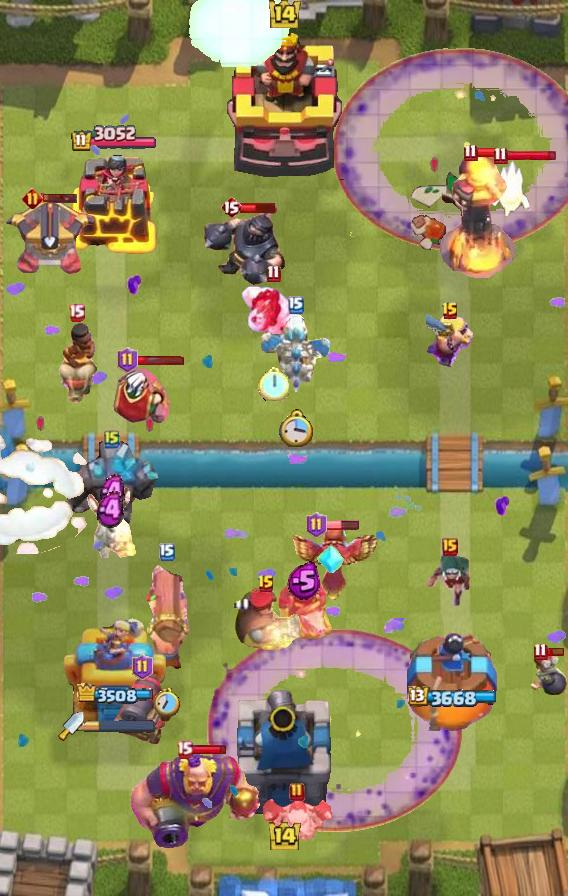arrows: (426, 314, 474, 368)
bar: (61, 615, 166, 731)
bat: (490, 160, 530, 218)
battle-healer: (143, 557, 191, 671)
cannoneer-tower: (63, 441, 161, 543)
electro-dragon: (438, 153, 518, 281)
electro-spirit: (287, 561, 321, 601), (97, 491, 123, 529), (99, 475, 124, 509)
elite-barbarian: (54, 323, 98, 405)
elixir: (279, 409, 314, 447), (258, 366, 289, 401), (154, 687, 180, 716)
emote: (507, 149, 558, 162), (135, 355, 185, 366), (239, 202, 276, 215), (42, 192, 79, 204), (324, 519, 360, 531), (191, 745, 228, 756), (475, 147, 509, 158), (545, 647, 565, 658)
freeze: (270, 575, 338, 647)
golden-knight: (287, 527, 379, 603)
ice-golem: (528, 647, 568, 695)
king-tower: (224, 29, 344, 181), (232, 686, 336, 826)
king-tower-bar: (84, 719, 156, 733)
lava-pup: (3, 194, 95, 276)
lightning: (127, 752, 265, 848)
mega-knight: (186, 0, 292, 72)
mini-pekka: (259, 315, 333, 399), (81, 486, 139, 558), (259, 795, 335, 845)
pad_2: (317, 542, 345, 576)
phoenix-small: (229, 586, 303, 650)
queen-tower: (69, 154, 159, 256), (407, 633, 499, 731)
rage: (240, 285, 306, 353)
rocket: (207, 628, 463, 832), (332, 48, 568, 252)
royal-giant-evolution: (110, 670, 174, 748)
royal-guardian: (200, 203, 288, 289)
selected: (70, 125, 158, 153), (409, 686, 500, 710), (75, 683, 153, 705)
skeleton-king: (112, 362, 172, 428)
tesla: (426, 552, 474, 608)
text: (305, 512, 327, 538), (131, 654, 153, 680), (117, 347, 138, 373), (220, 195, 242, 219), (21, 187, 43, 209), (441, 301, 459, 321), (257, 574, 275, 594), (67, 302, 85, 321), (176, 741, 193, 760), (104, 429, 120, 449), (289, 782, 305, 802), (288, 296, 304, 314), (442, 538, 458, 556), (159, 543, 175, 561), (266, 265, 281, 284), (532, 643, 547, 662), (493, 147, 508, 165), (463, 143, 477, 161)
wall-breaker: (0, 432, 98, 554)
